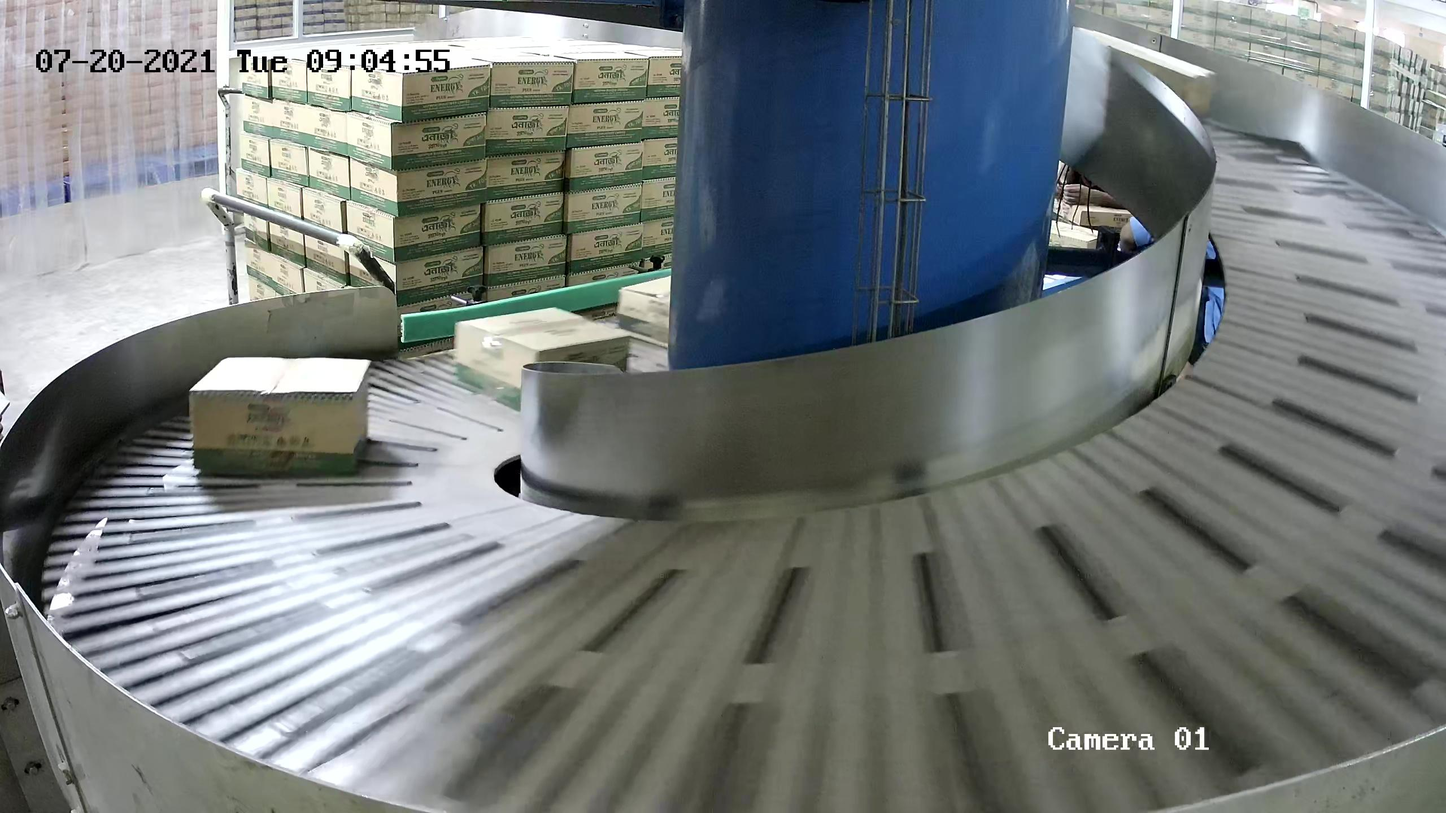Box: (187, 354, 373, 476), (452, 305, 631, 413), (615, 274, 672, 349)
